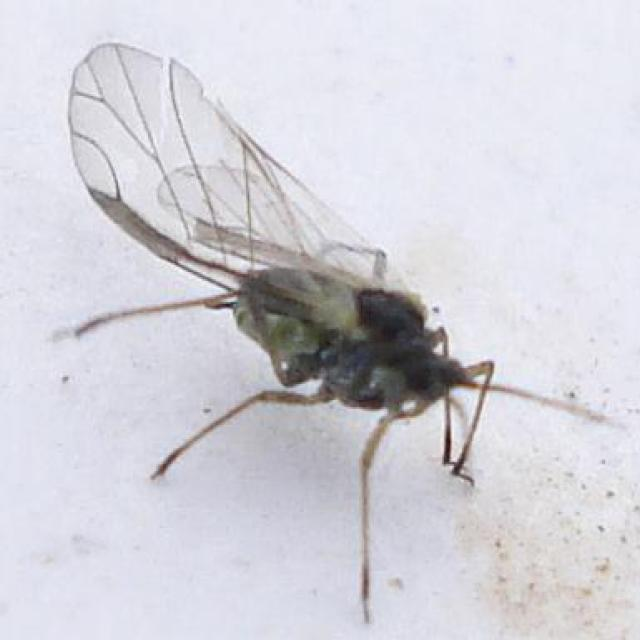Aphids: (23, 46, 590, 592)
